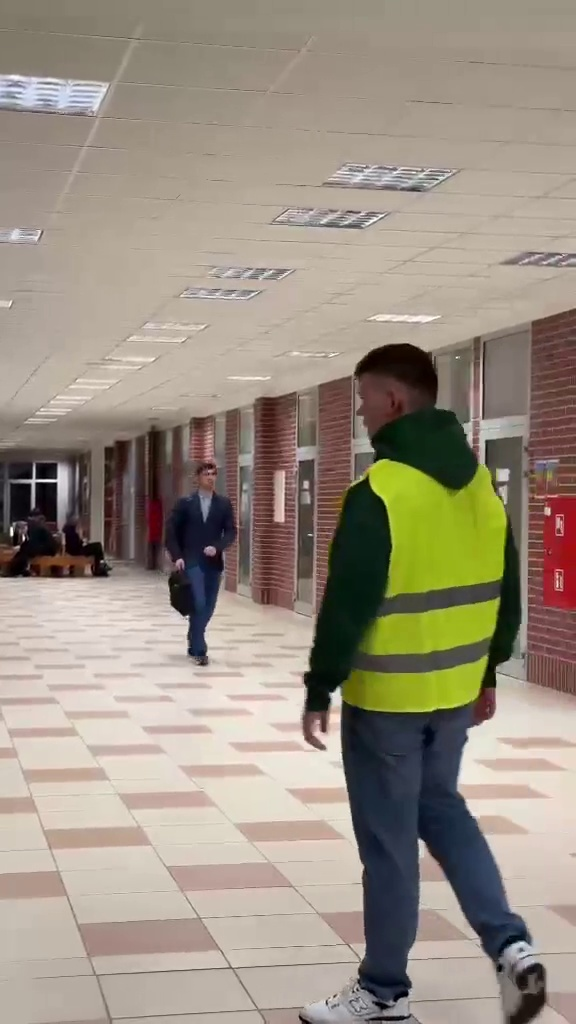no vest: (162, 452, 234, 664)
vest: (302, 344, 570, 1018)
